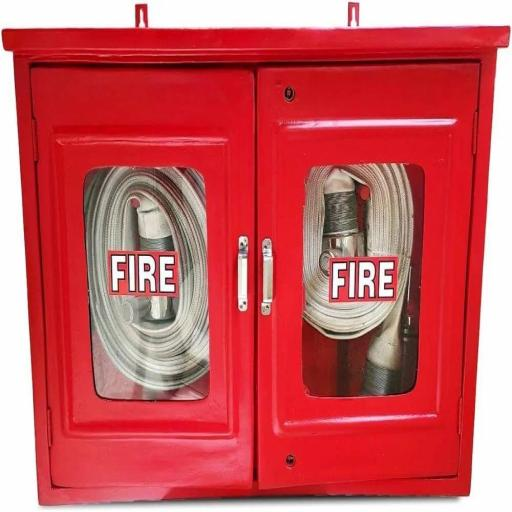fire_hose: (0, 3, 512, 512)
